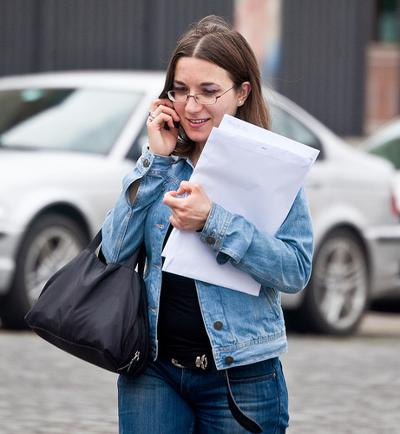person: (27, 17, 316, 434)
